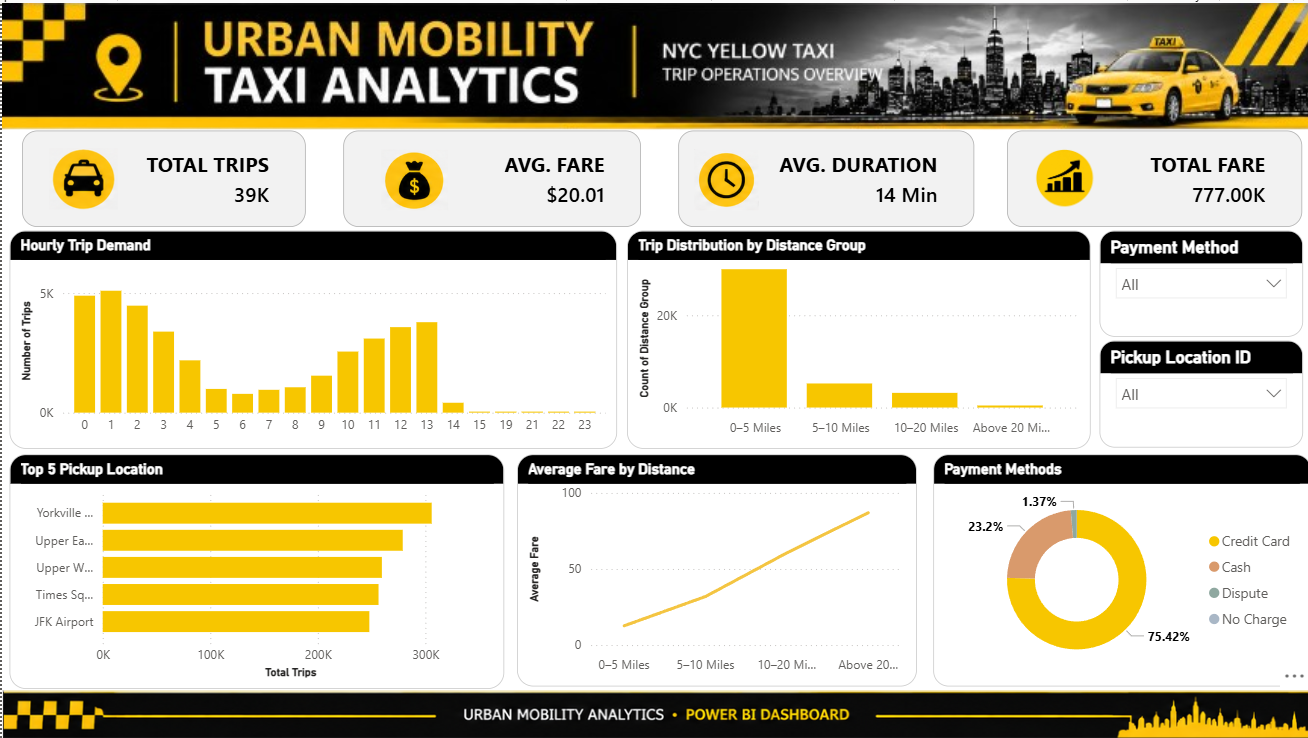

What the dashboard file says about the page in this screenshot:
{"tool":"powerbi","page":{"name":"Page 1","canvas":[1280,720],"ordinal":0},"visuals":[{"type":"cardVisual","fields":{"Data":["yellow_taxi_cleaned.Total Trips"]},"box":[18.3,122.3,277.6,94.2],"z":0},{"type":"cardVisual","fields":{"Data":["yellow_taxi_cleaned.Average Fare"]},"box":[332.6,122.3,291,94.2],"z":1000},{"type":"donutChart","title":"Payment Methods","fields":{"Y":["CountNonNull(yellow_taxi_cleaned.payment_method)"],"Category":["yellow_taxi_cleaned.payment_method"]},"box":[910.6,441.2,369.3,227.4],"z":2000},{"type":"cardVisual","fields":{"Data":["yellow_taxi_cleaned.AVG. DURATION"]},"box":[660.3,122.3,289.8,94.2],"z":3000},{"type":"slicer","title":"Payment Method","fields":{"Values":["yellow_taxi_cleaned.payment_method"]},"box":[1073.6,222.6,199.3,103.9],"z":4000},{"type":"slicer","title":"Pickup Location ID","fields":{"Values":["taxi_zone_lookup.Zone"]},"box":[1073.6,330.2,199.3,105.2],"z":5000},{"type":"clusteredColumnChart","title":"Hourly Trip Demand","fields":{"Category":["yellow_taxi_cleaned.Pickup Hour"],"Y":["yellow_taxi_cleaned.TOTAL TRIPS"]},"box":[7.3,222.6,594.3,214],"z":6000},{"type":"clusteredBarChart","title":"Top 5 Pickup Location","fields":{"Y":["Sum(yellow_taxi_cleaned.pulocationid)"],"Category":["taxi_zone_lookup.Zone"]},"box":[7,441.2,484.2,229.9],"z":7000},{"type":"lineChart","title":"Average Fare by Distance","fields":{"Category":["yellow_taxi_cleaned.Distance Group"],"Y":["Avg(yellow_taxi_cleaned.fare_amount)"]},"box":[503.4,441.2,391.3,227.4],"z":8000},{"type":"areaChart","title":"Total Fare by Pickup Hour","fields":{"Y":["yellow_taxi_cleaned.Total Fare Amount"],"Category":["yellow_taxi_cleaned.Pickup Hour"]},"box":[611.4,222.6,453.7,214],"z":9000},{"type":"image","box":[672.6,141.8,69.7,59.9],"z":10000},{"type":"cardVisual","fields":{"Data":["yellow_taxi_cleaned.Total Fare Amount"]},"box":[981.9,122.3,288.6,94.2],"z":11000},{"type":"image","box":[0,0,1280.3,118.6],"z":12000},{"type":"image","box":[41.6,140.6,73.4,59.9],"z":13000},{"type":"image","box":[365.6,141.8,73.4,59.9],"z":14000},{"type":"image","box":[0,672.6,1280.3,47.7],"z":15000},{"type":"image","box":[1002.7,140.6,70.9,59.9],"z":16000}]}

Visuals, with their boxes in screenshot pixels (x1, y1, x2, y2), scaled from the page's 1280x720 canvas onto the 1308x738 screenshot:
cardVisual - yellow_taxi_cleaned.Total Trips: 19/125/302/222
cardVisual - yellow_taxi_cleaned.Average Fare: 340/125/637/222
"Payment Methods" donutChart: 931/452/1307/685
cardVisual - yellow_taxi_cleaned.AVG. DURATION: 675/125/971/222
"Payment Method" slicer: 1097/228/1301/335
"Pickup Location ID" slicer: 1097/338/1301/446
"Hourly Trip Demand" clusteredColumnChart: 7/228/615/448
"Top 5 Pickup Location" clusteredBarChart: 7/452/502/688
"Average Fare by Distance" lineChart: 514/452/914/685
"Total Fare by Pickup Hour" areaChart: 625/228/1088/448
image: 687/145/759/207
cardVisual - yellow_taxi_cleaned.Total Fare Amount: 1003/125/1298/222
image: 0/0/1307/122
image: 43/144/118/206
image: 374/145/449/207
image: 0/689/1307/737
image: 1025/144/1097/206
